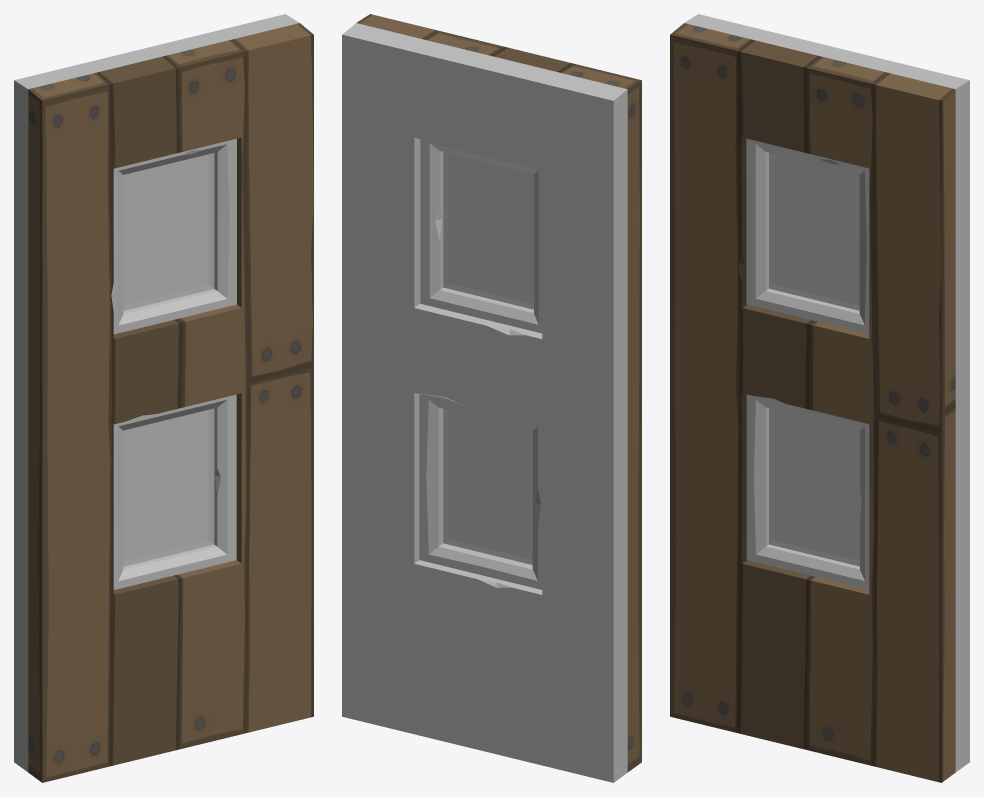
The model's file is SM_Bld_Deco_Wall_Window_06_Half_01.fbx.
3 renders of one model, left to right at view 1: azimuth 30°, elevation 25°; view 2: azimuth 150°, elevation 25°; view 3: azimuth 330°, elevation 25°, orthographic.
Parts seen in each view (by area): view 1: SM_Bld_Deco_Wall_Window_06_Half_01, SM_Bld_Deco_Wall_Window_06_Half_Glass_01; view 2: SM_Bld_Deco_Wall_Window_06_Half_01, SM_Bld_Deco_Wall_Window_06_Half_Glass_01; view 3: SM_Bld_Deco_Wall_Window_06_Half_01, SM_Bld_Deco_Wall_Window_06_Half_Glass_01.
Part boxes in pixels (x1,y1,x2,y2): SM_Bld_Deco_Wall_Window_06_Half_01: [14, 14, 313, 782]; SM_Bld_Deco_Wall_Window_06_Half_Glass_01: [123, 153, 214, 566]; SM_Bld_Deco_Wall_Window_06_Half_01: [342, 14, 641, 782]; SM_Bld_Deco_Wall_Window_06_Half_Glass_01: [443, 152, 533, 564]; SM_Bld_Deco_Wall_Window_06_Half_01: [670, 14, 969, 782]; SM_Bld_Deco_Wall_Window_06_Half_Glass_01: [769, 152, 861, 566].
Size of the model in its own units: 125 by 301 by 22.5.
